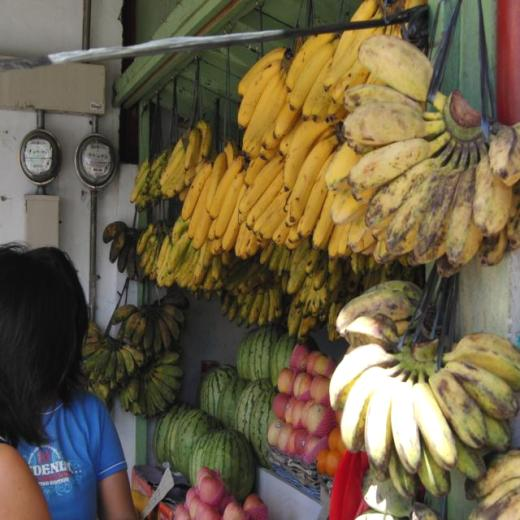Banana: (80, 0, 520, 519), (326, 293, 518, 497), (413, 368, 456, 472)
